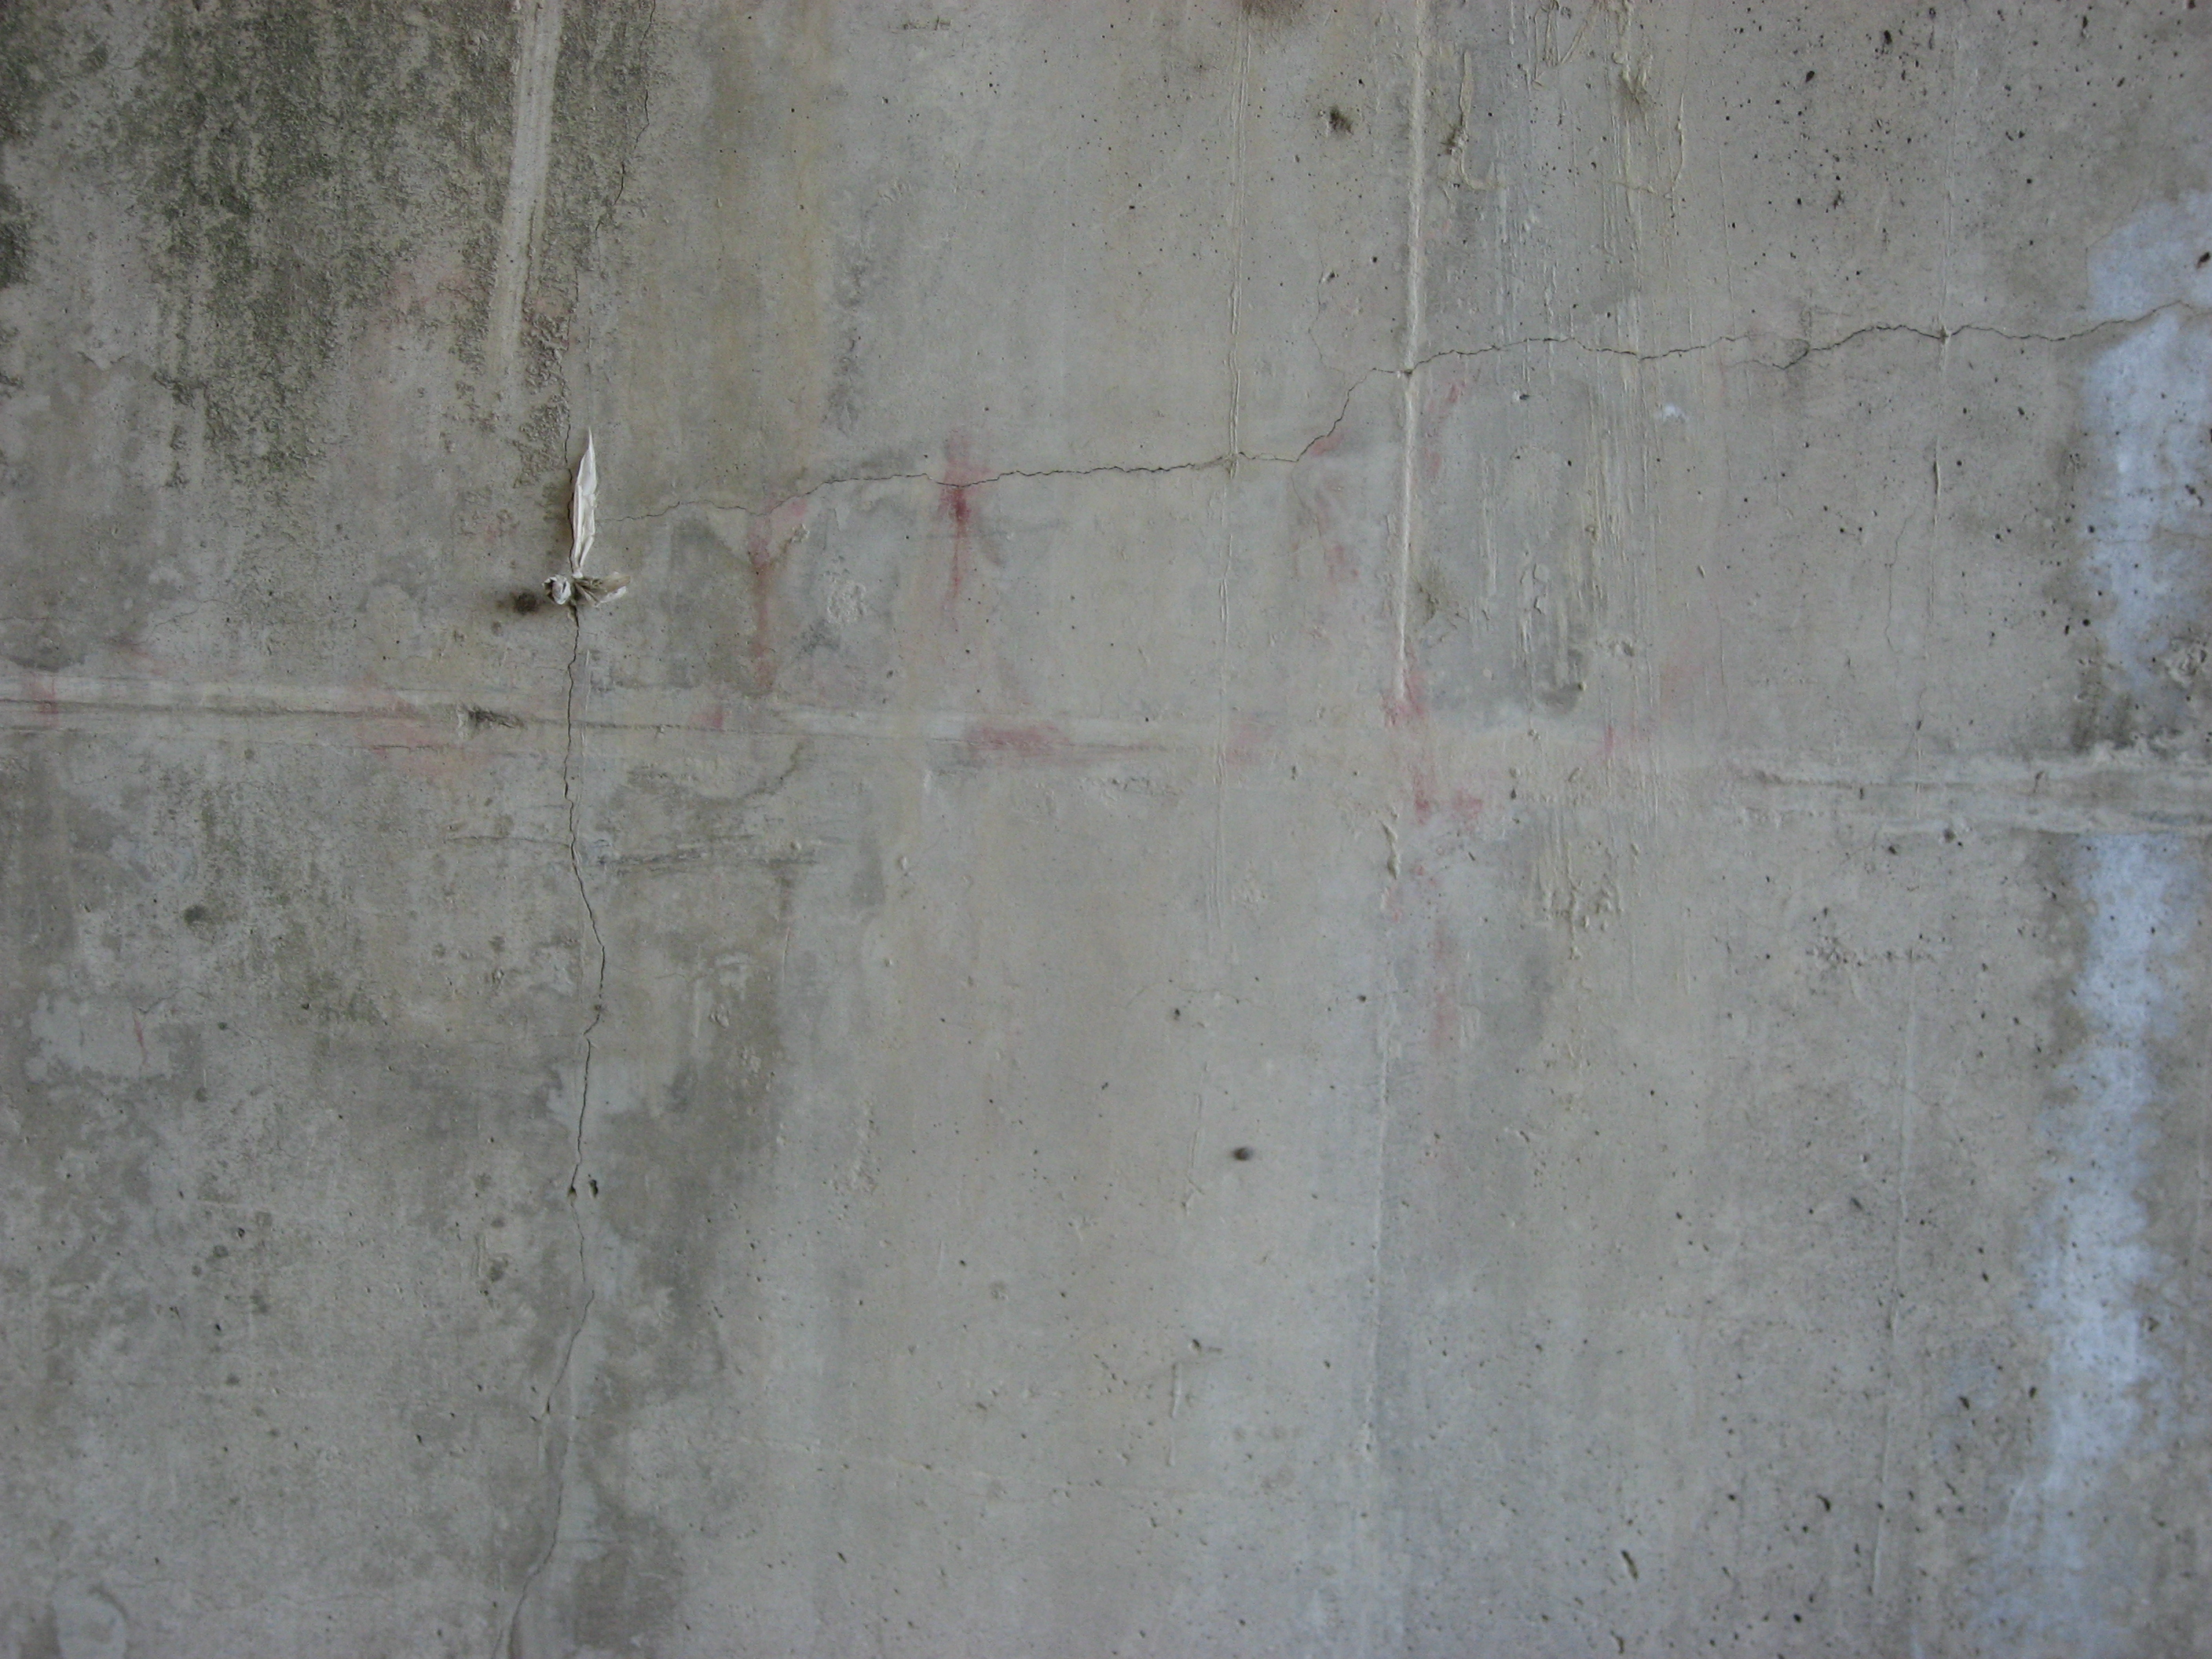defect: (594, 234, 2207, 526), (500, 601, 625, 1652), (536, 3, 658, 575), (1871, 502, 1921, 789)
